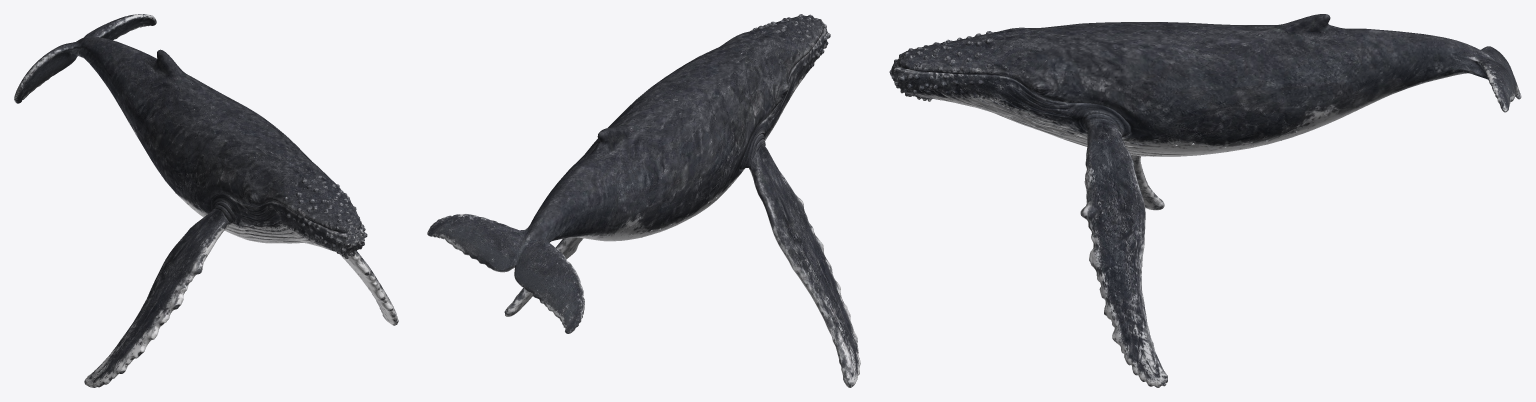
The model's file is humpback.glb.
3 renders of one model, left to right at view 1: azimuth 30°, elevation 25°; view 2: azimuth 150°, elevation 25°; view 3: azimuth 270°, elevation 25°, orthographic. The views are drawn at different scales.
Visible parts, largest first — view 1: Mesh_0; view 2: Mesh_0; view 3: Mesh_0.
Boxes of the visible parts, x1=… form: Mesh_0: x1=14, y1=14, x2=398, y2=387; Mesh_0: x1=427, y1=14, x2=860, y2=387; Mesh_0: x1=889, y1=14, x2=1521, y2=387.
Bounding box in the file's own units: 1.2 × 0.9566 × 1.9.
1 material, 1 textured.
